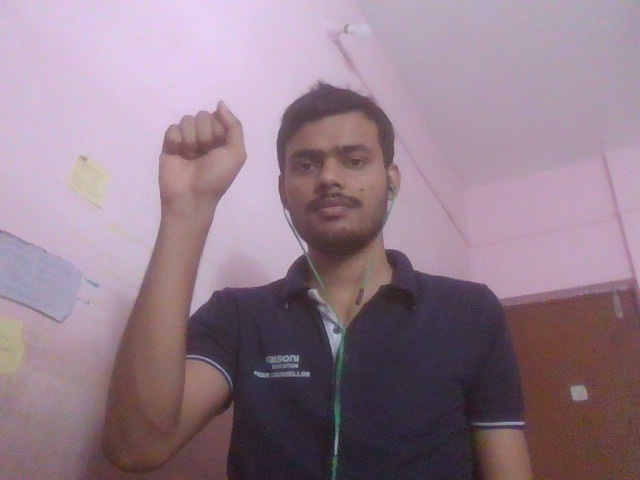Yes: (82, 56, 305, 293)
